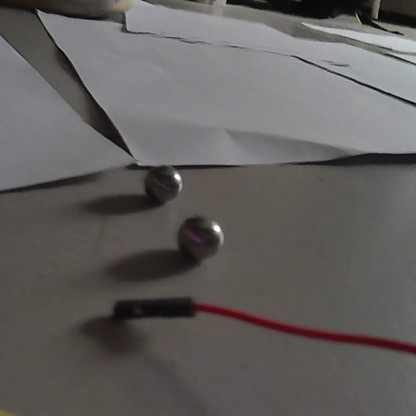ironball: (173, 214, 225, 263), (143, 160, 182, 204)
